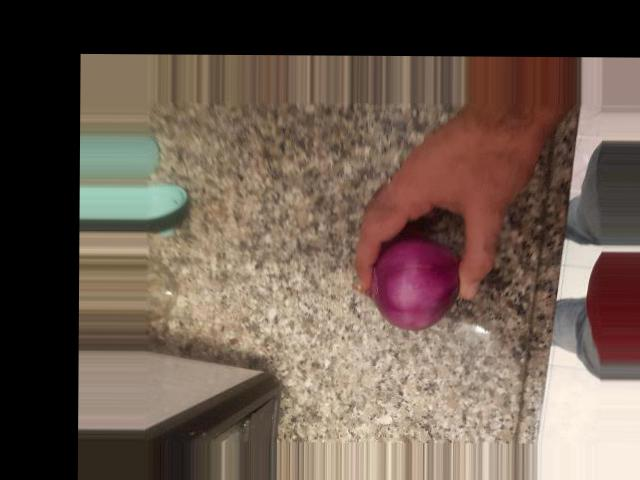onion: (356, 246, 491, 336)
